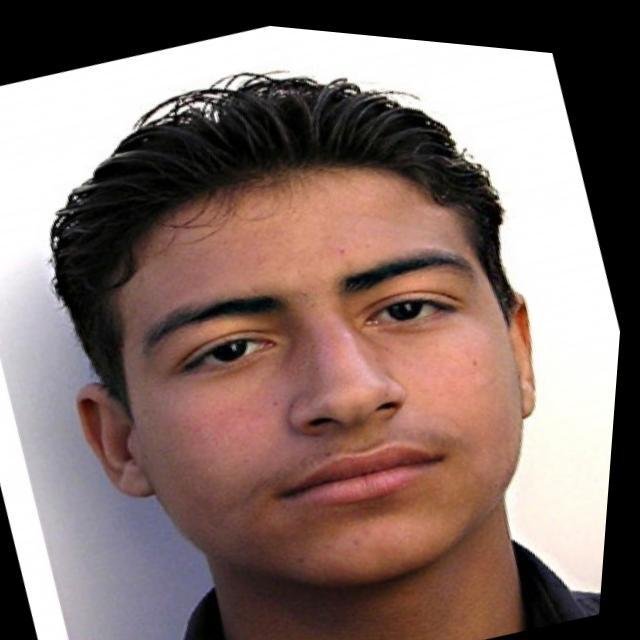Nonhelmet: (40, 49, 569, 587)
